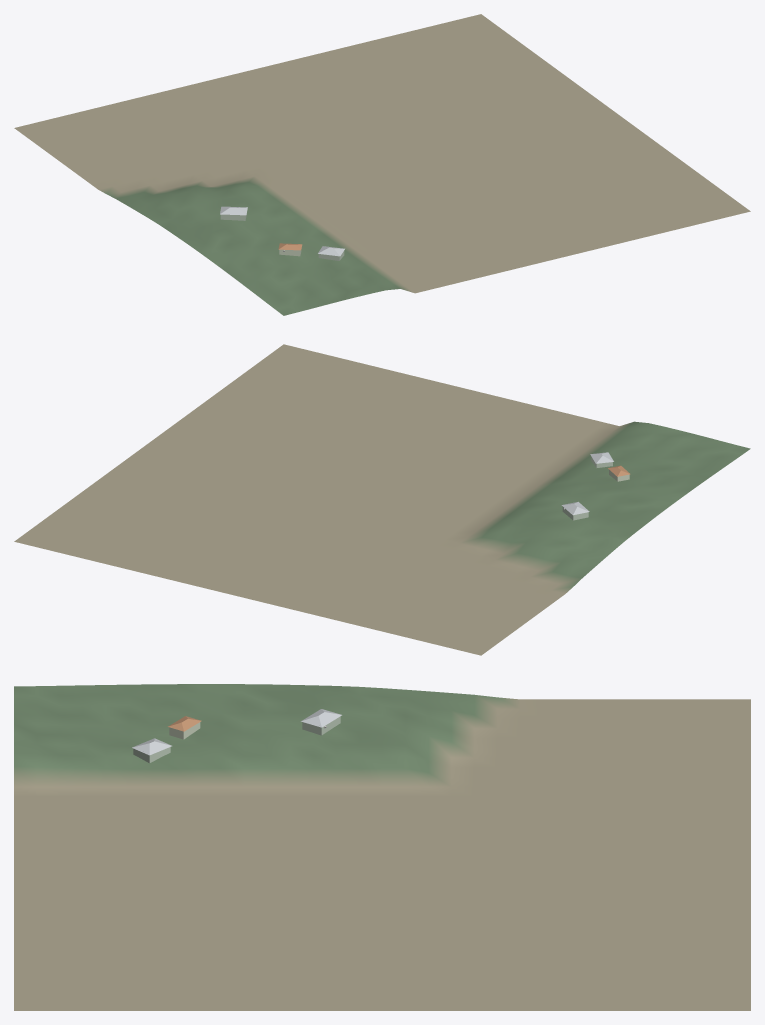
The picture shows the model from 3 angles, top to bottom: view 1: azimuth 30°, elevation 25°; view 2: azimuth 150°, elevation 25°; view 3: azimuth 270°, elevation 25°; orthographic projection. The views are drawn at different scales.
Parts seen in each view (by area): view 1: Terrain-col, Buildings-col; view 2: Terrain-col, Buildings-col; view 3: Terrain-col, Buildings-col.
Part boxes in pixels (<box>): Terrain-col: <box>14,14,750,315</box>; Buildings-col: <box>220,206,344,260</box>; Terrain-col: <box>14,344,750,655</box>; Buildings-col: <box>561,452,630,520</box>; Terrain-col: <box>14,684,750,1010</box>; Buildings-col: <box>132,709,341,763</box>.
Size of the model in its own units: 256 by 10.5 by 256.
